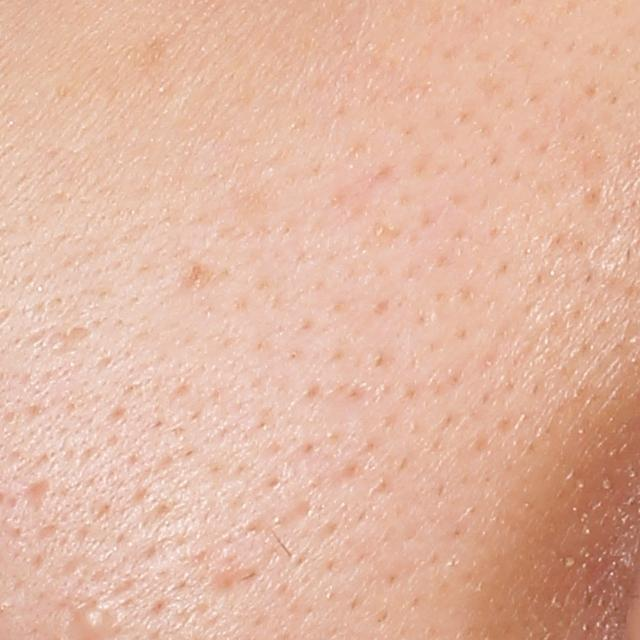atrophic_scar: (204, 568, 265, 599), (42, 322, 97, 355), (22, 476, 55, 516)
